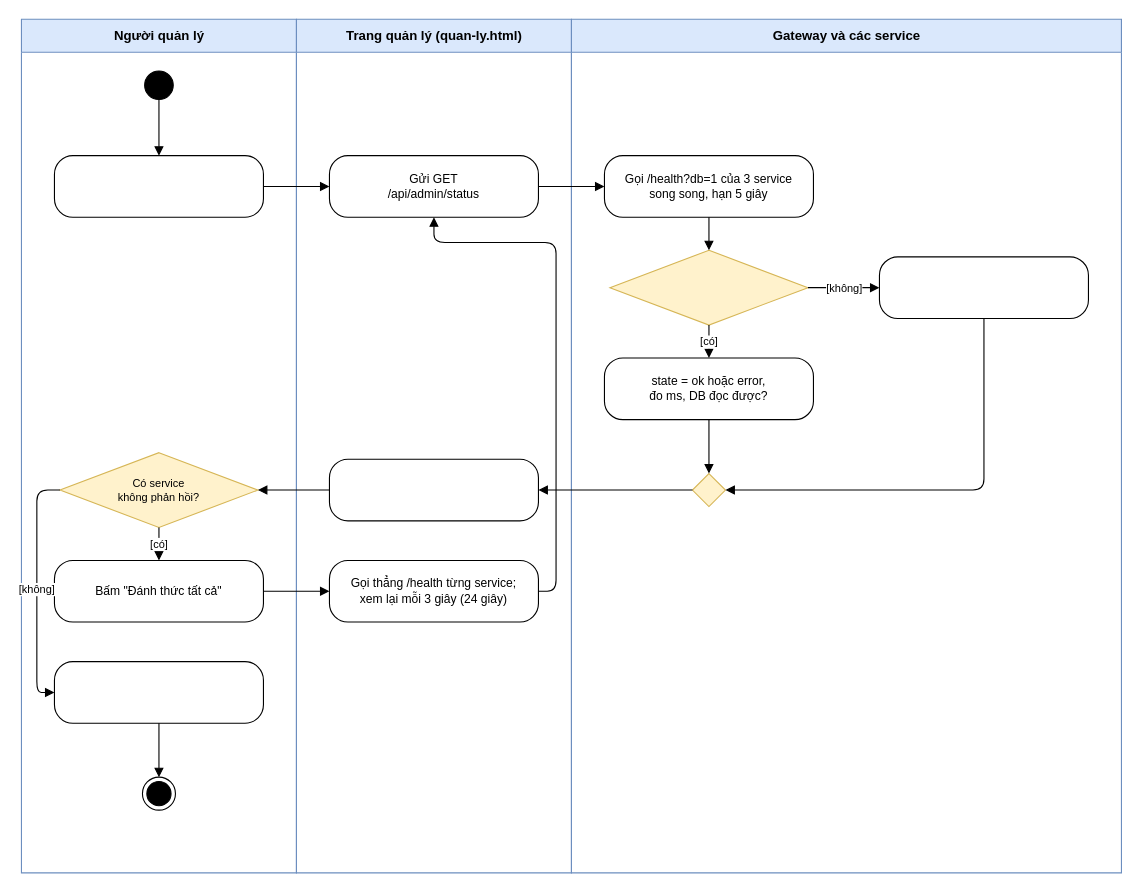
Image size: 1141x892. Some labels were removed from this diagram. Here are the shapes that lost their labels. From the top down, the centre of each, then its label:
(x=158, y=186): Chọn tab "Hệ thống"
(x=708, y=287): Service trả lời trong 5 giây?
(x=983, y=287): state = down (có thể đang ngủ)
(x=433, y=489): Vẽ bảng 4 thành phần (tự cập nhật mỗi 10 giây)
(x=158, y=692): Xem trạng thái
